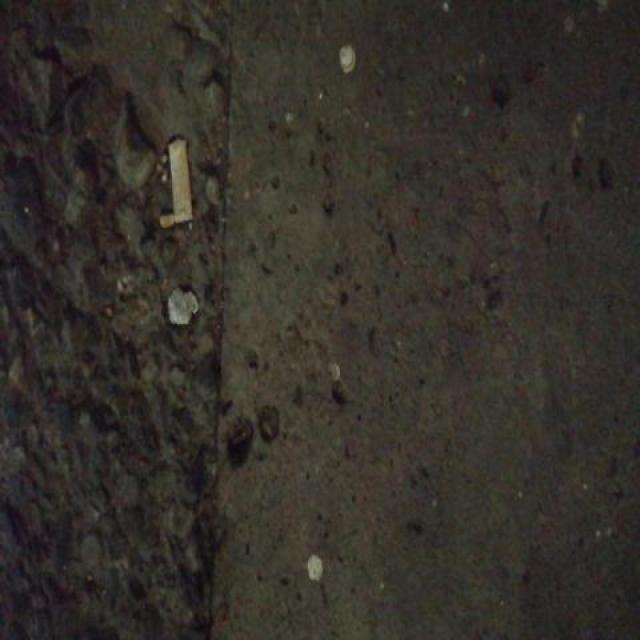non-organic waste: (163, 133, 196, 231)
